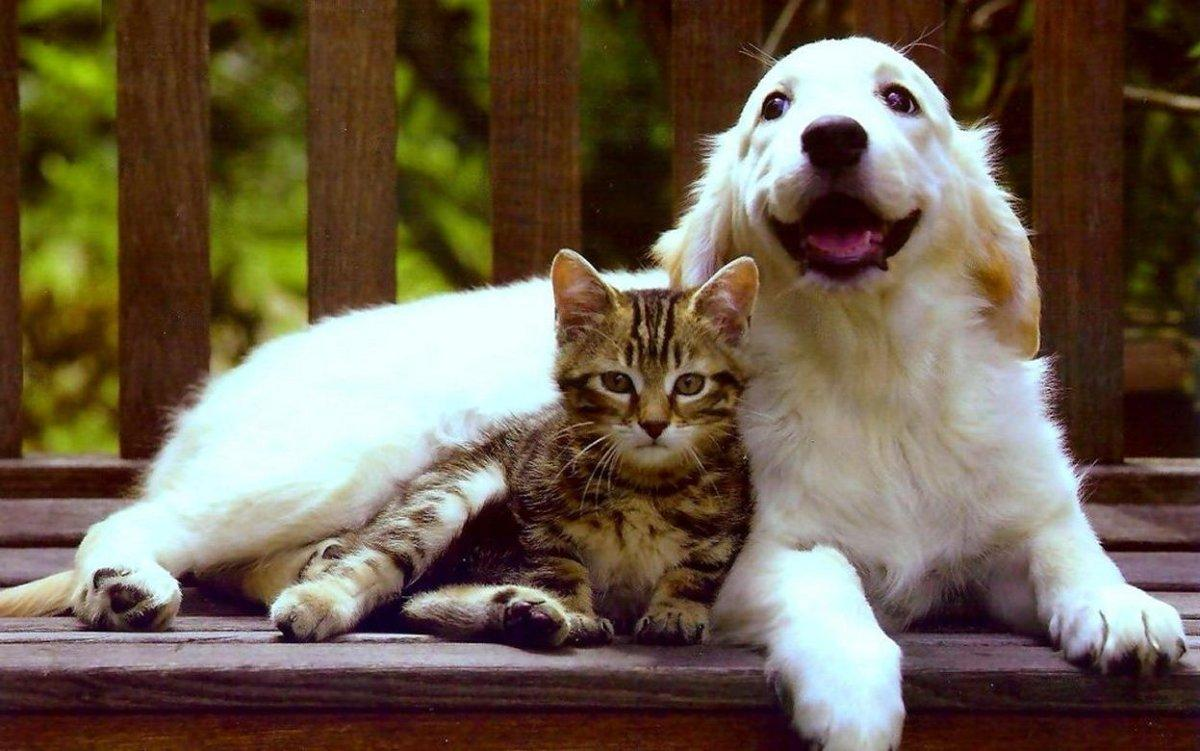animals: (674, 27, 1191, 741), (552, 237, 762, 654)
